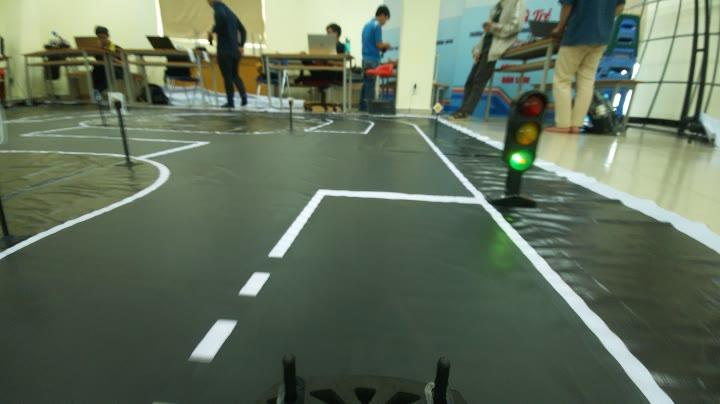trafficlight: (493, 87, 553, 174)
